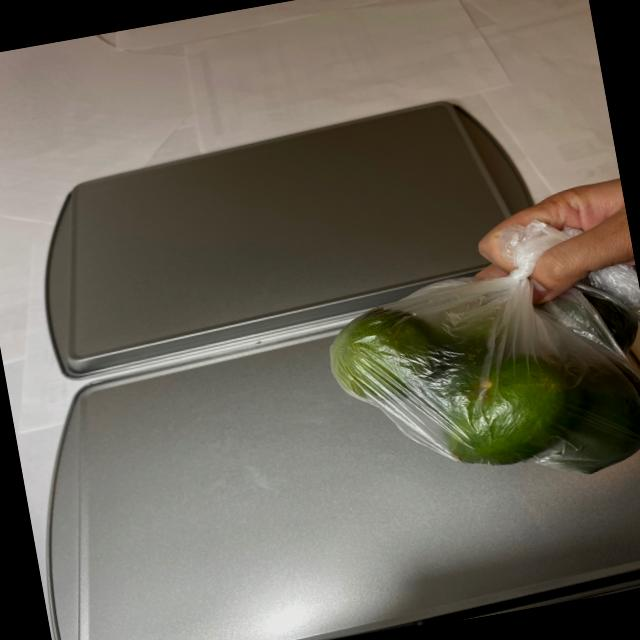lemon: (319, 249, 640, 517)
